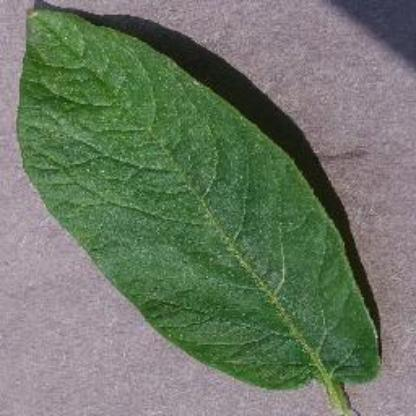Healthy-plant: (13, 3, 401, 404)
